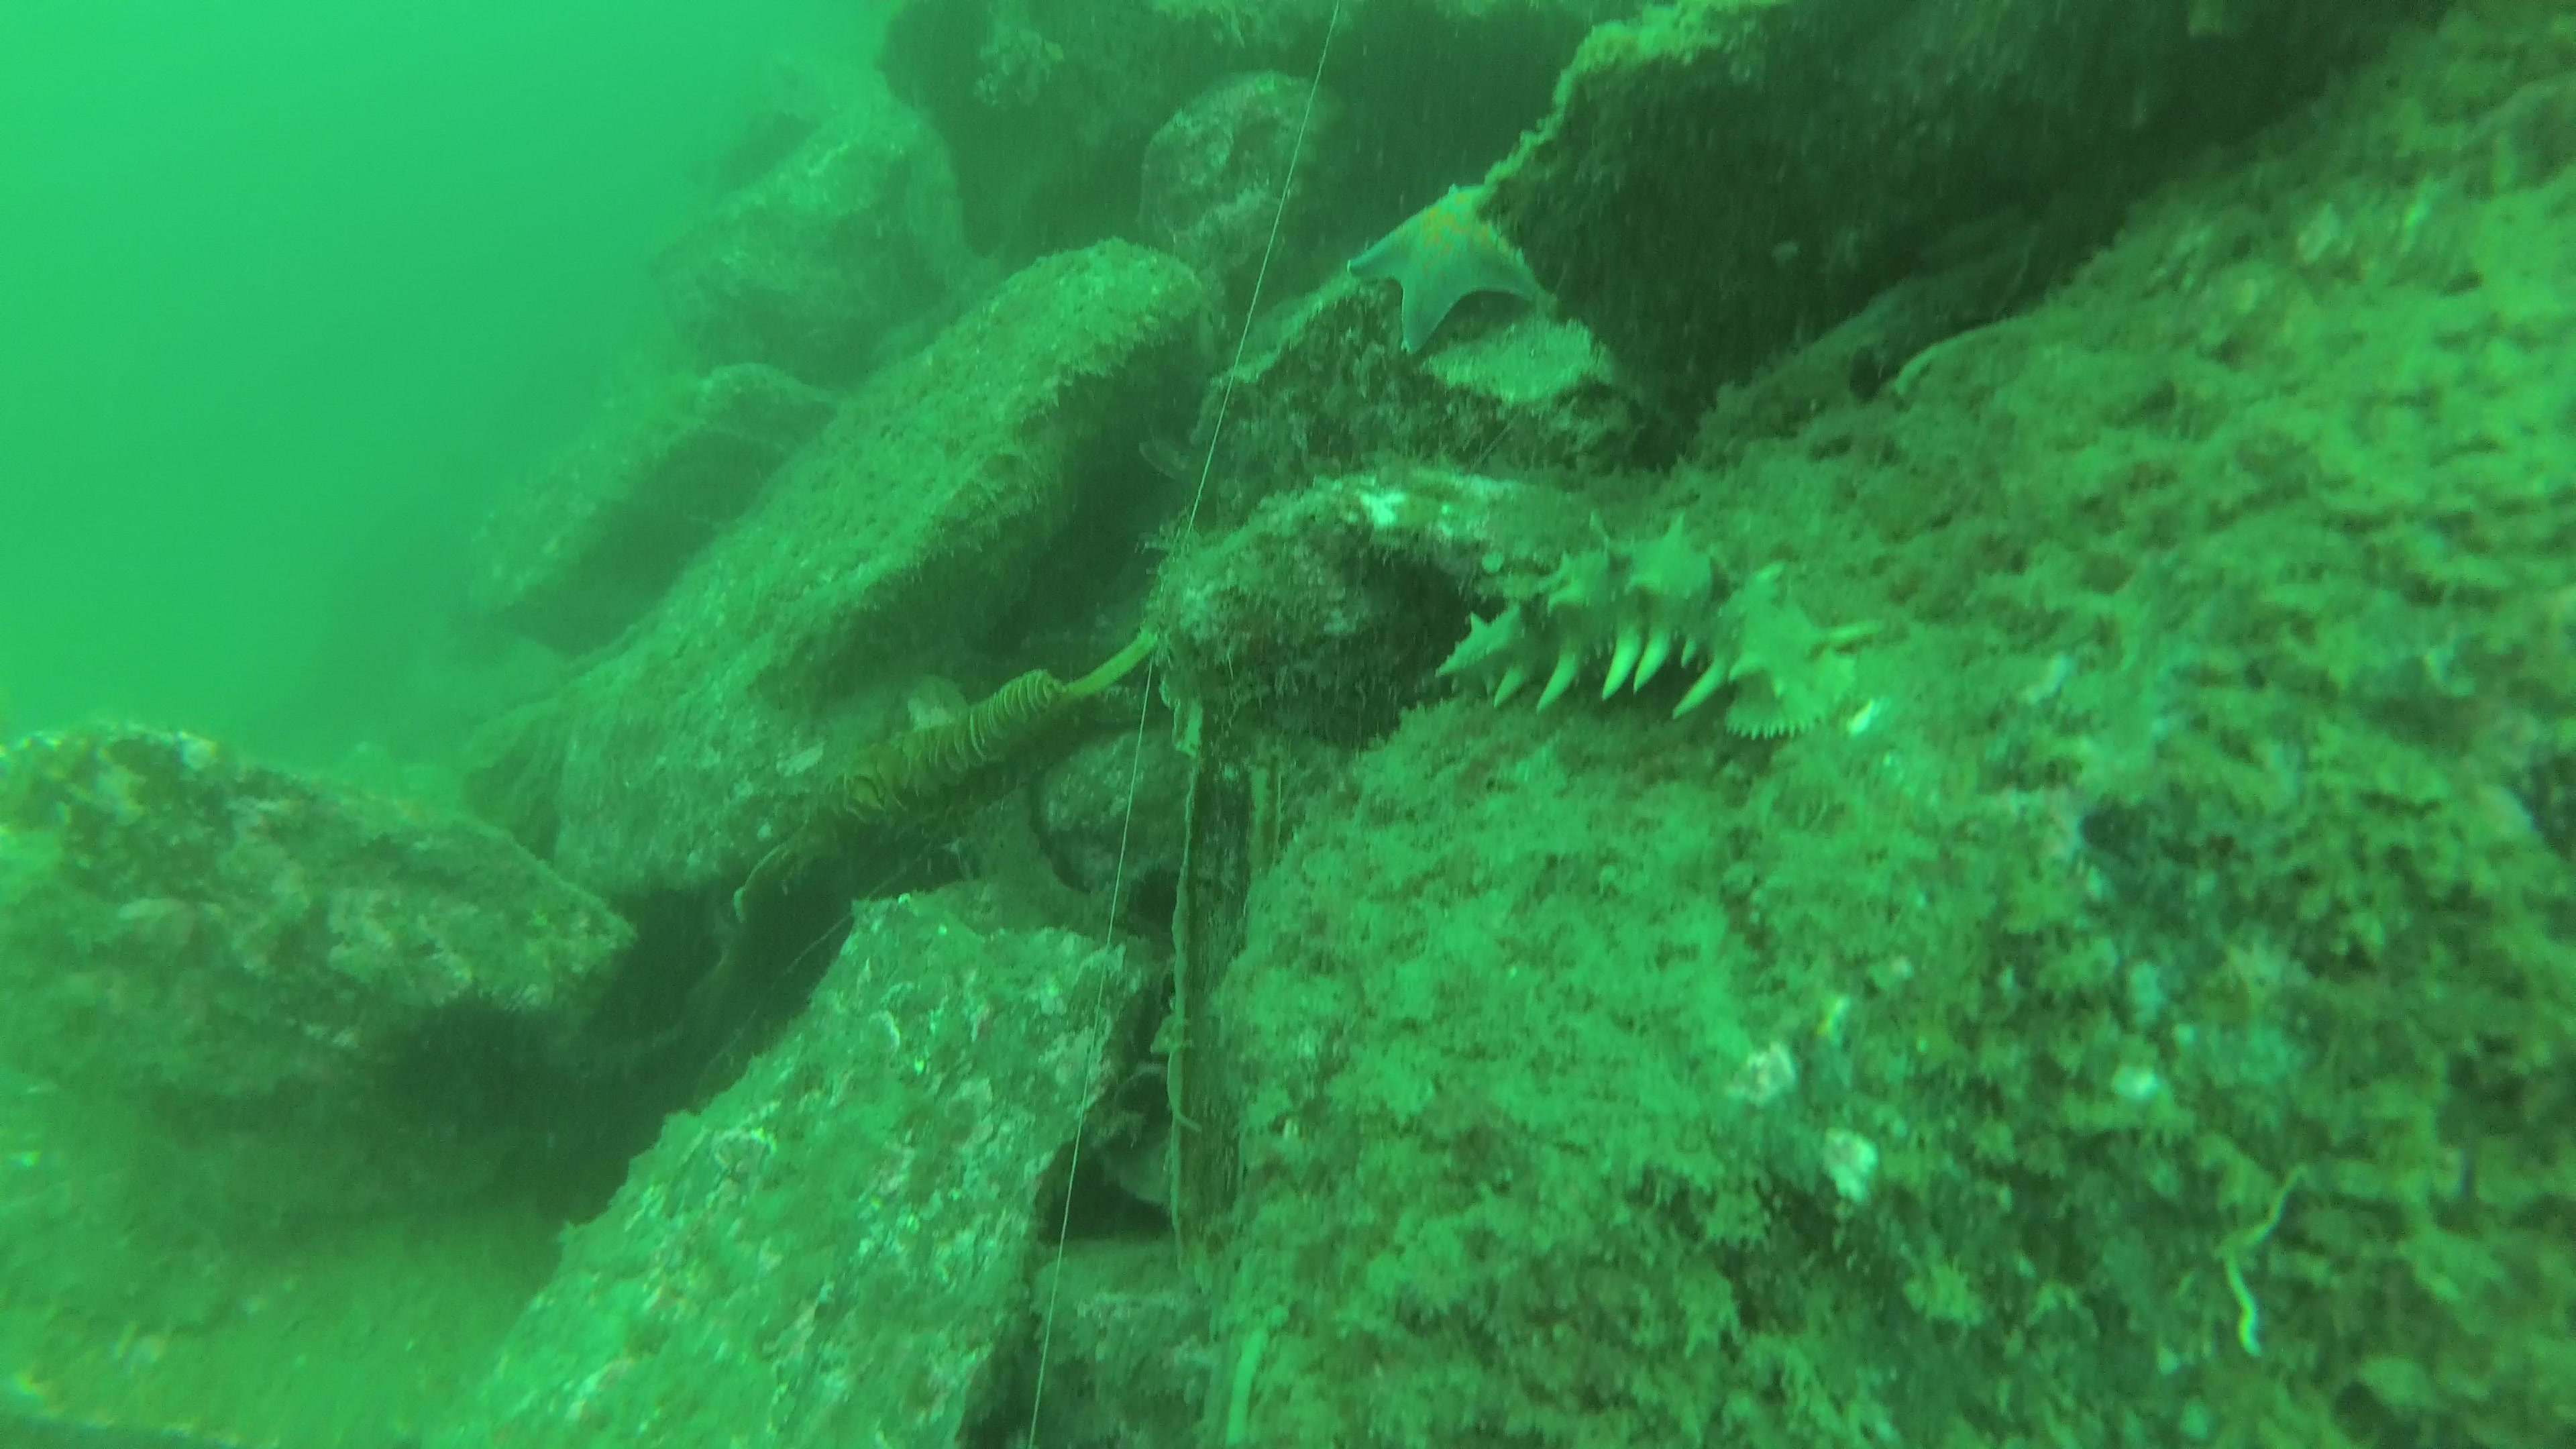holothurian: (1433, 511, 1884, 736)
starfish: (1348, 179, 1575, 354)
